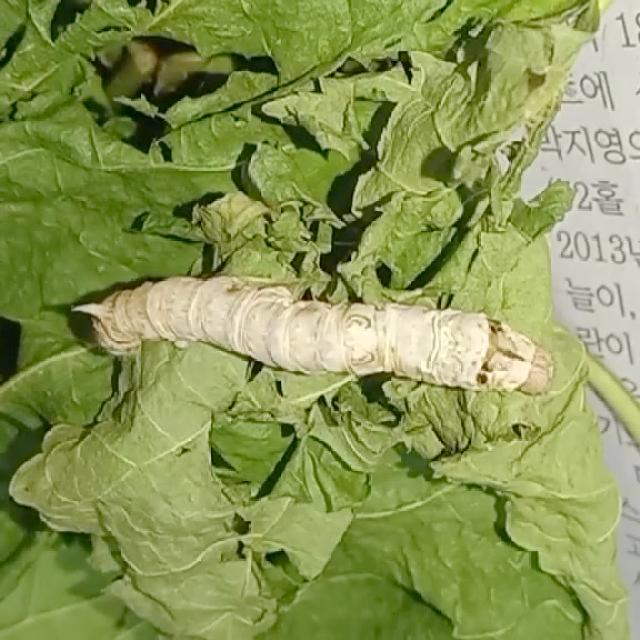Grasserie: (68, 264, 559, 416)
